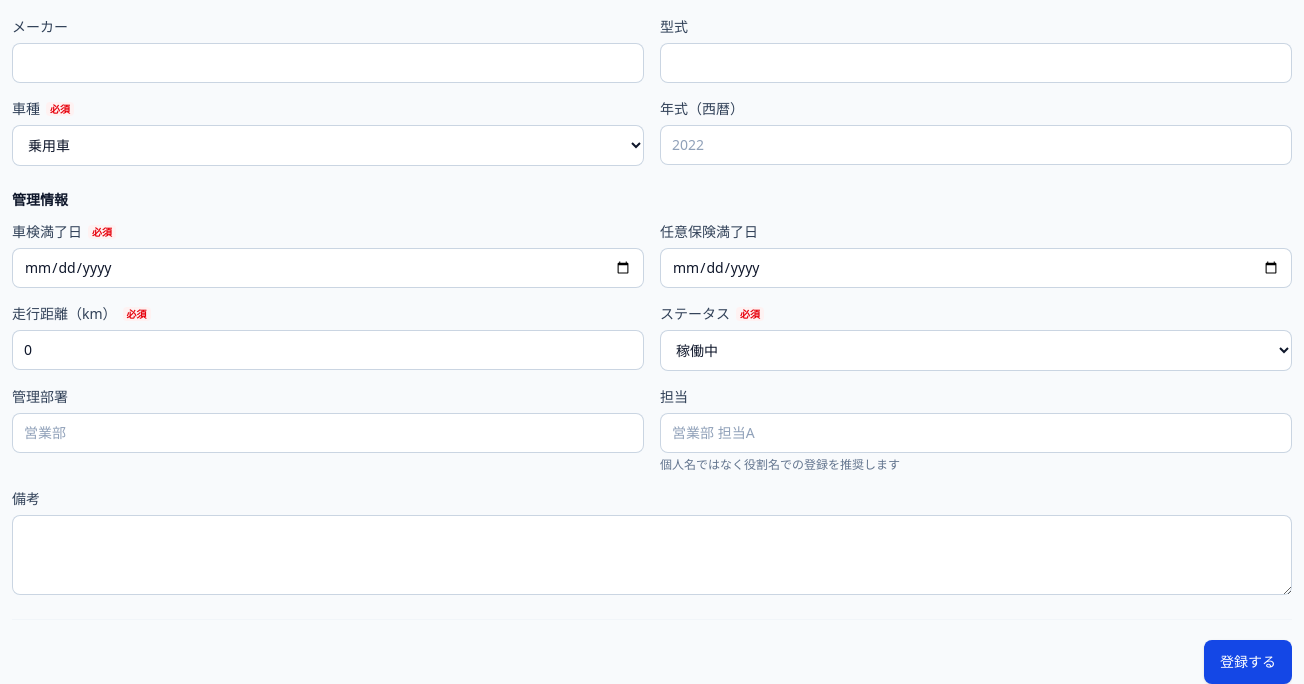
Scenario: VehicleForm › shows validation errors and does not submit invalid input
(page scrolled)
Click the button "登録する" at coordinates (1248, 662), box [1204,640,1292,683]
(page scrolled)
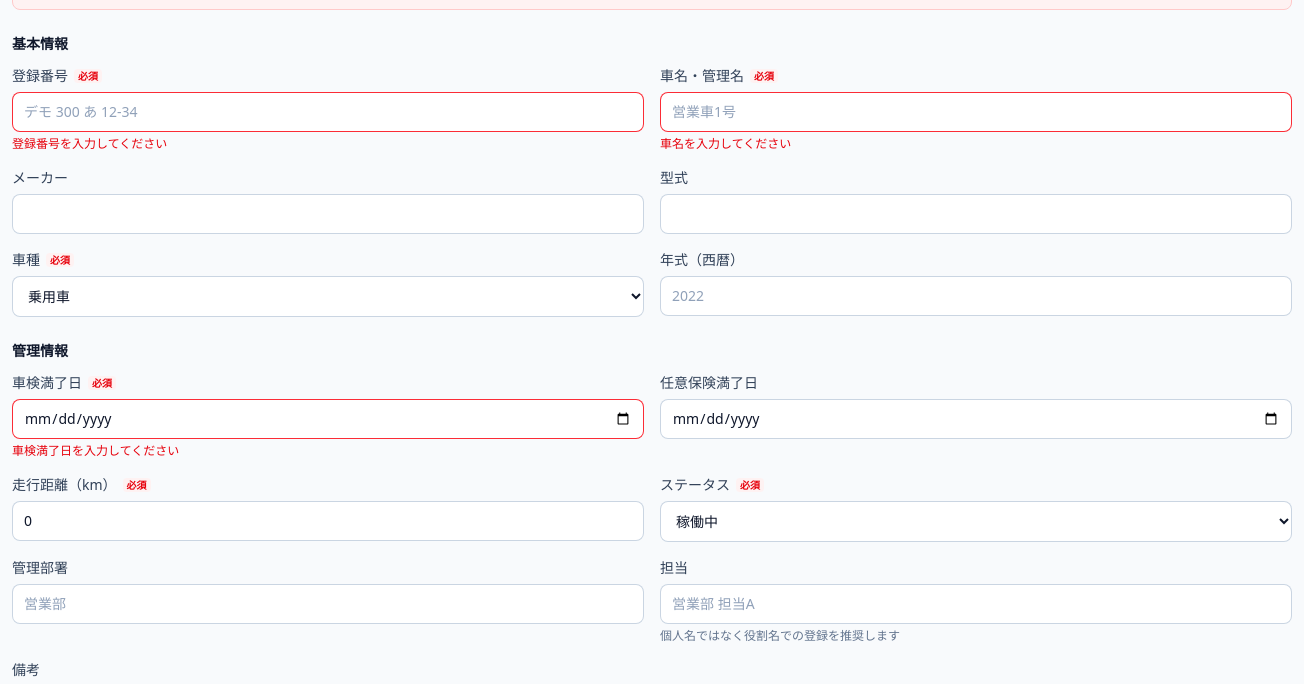
Expected: the text "登録番号を入力してください" is shown, [12,135,167,152]
Expected: the text "車検満了日を入力してください" is shown, [12,442,179,459]
